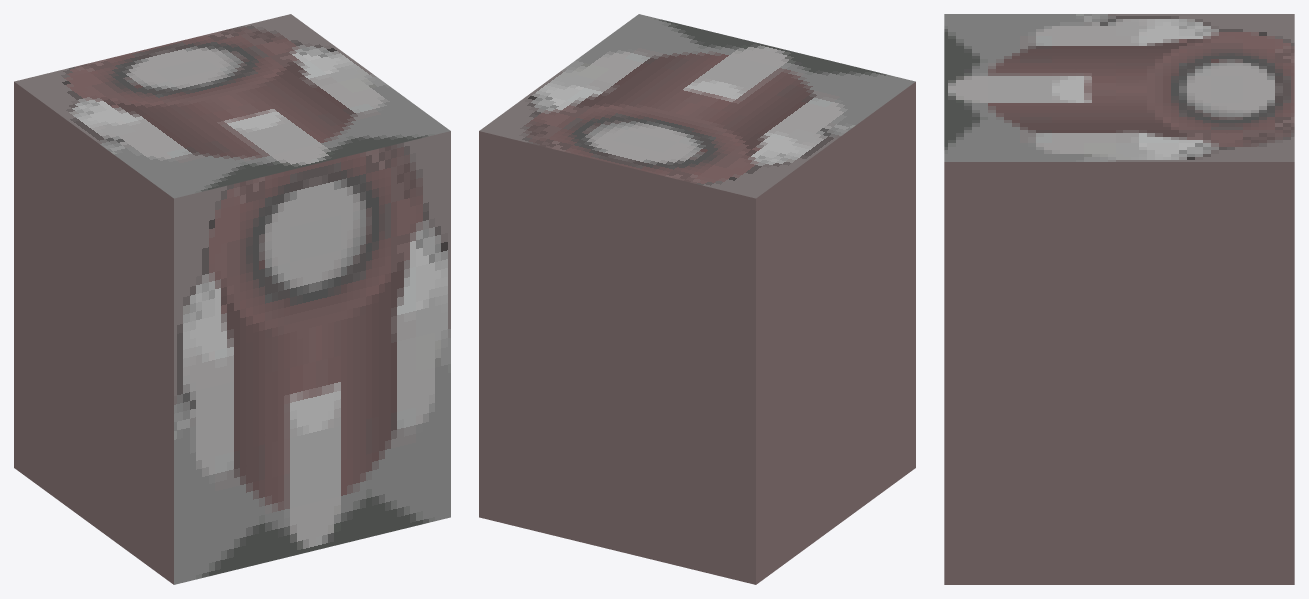
Rendered from Building_PollutionPump.glb.
The picture shows the model from 3 angles, left to right: view 1: azimuth 30°, elevation 25°; view 2: azimuth 150°, elevation 25°; view 3: azimuth 270°, elevation 25°; orthographic projection. The views are drawn at different scales.
Parts seen in each view (by area): view 1: PollutionPump; view 2: PollutionPump; view 3: PollutionPump.
Boxes of the visible parts, x1,y1,x2,y2 form: PollutionPump: [14, 14, 450, 584]; PollutionPump: [479, 14, 915, 584]; PollutionPump: [944, 14, 1294, 584].
Bounding box in the file's own units: 0.9 × 1.2 × 0.9.
Materials: 1 (1 with a texture image).
